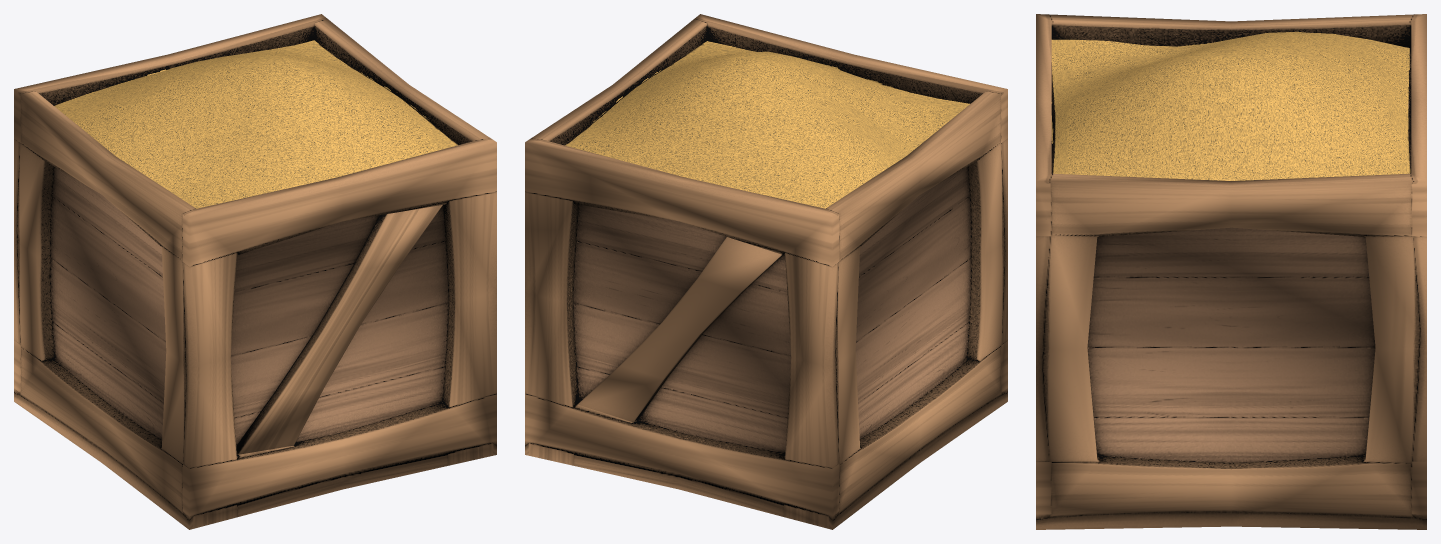
File: WoodenCrate_Gold.fbx
3 renders of one model, left to right at view 1: azimuth 30°, elevation 25°; view 2: azimuth 150°, elevation 25°; view 3: azimuth 270°, elevation 25°, orthographic. The views are drawn at different scales.
Visible parts, largest first — view 1: WodenCrate_Gold; view 2: WodenCrate_Gold; view 3: WodenCrate_Gold.
Boxes of the visible parts, bbox=[...] form: WodenCrate_Gold: bbox=[14, 14, 496, 529]; WodenCrate_Gold: bbox=[525, 14, 1007, 529]; WodenCrate_Gold: bbox=[1036, 14, 1426, 529].
Size of the model in its own units: 0.6082 by 0.672 by 0.6.
